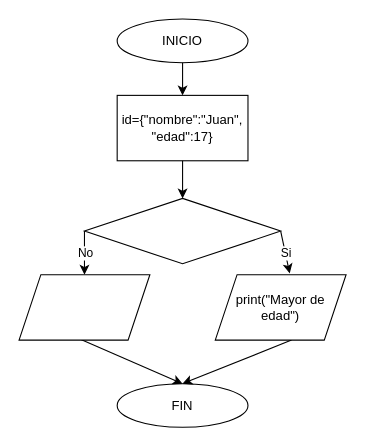
Some shapes in this 365 by 447 pixel diagram are drawn without their labels. The centre of each missing label's shape, as x and y in pixels:
if id["edad"]>=18: pixel 182 230
print("Menor de edad"): pixel 84 307
